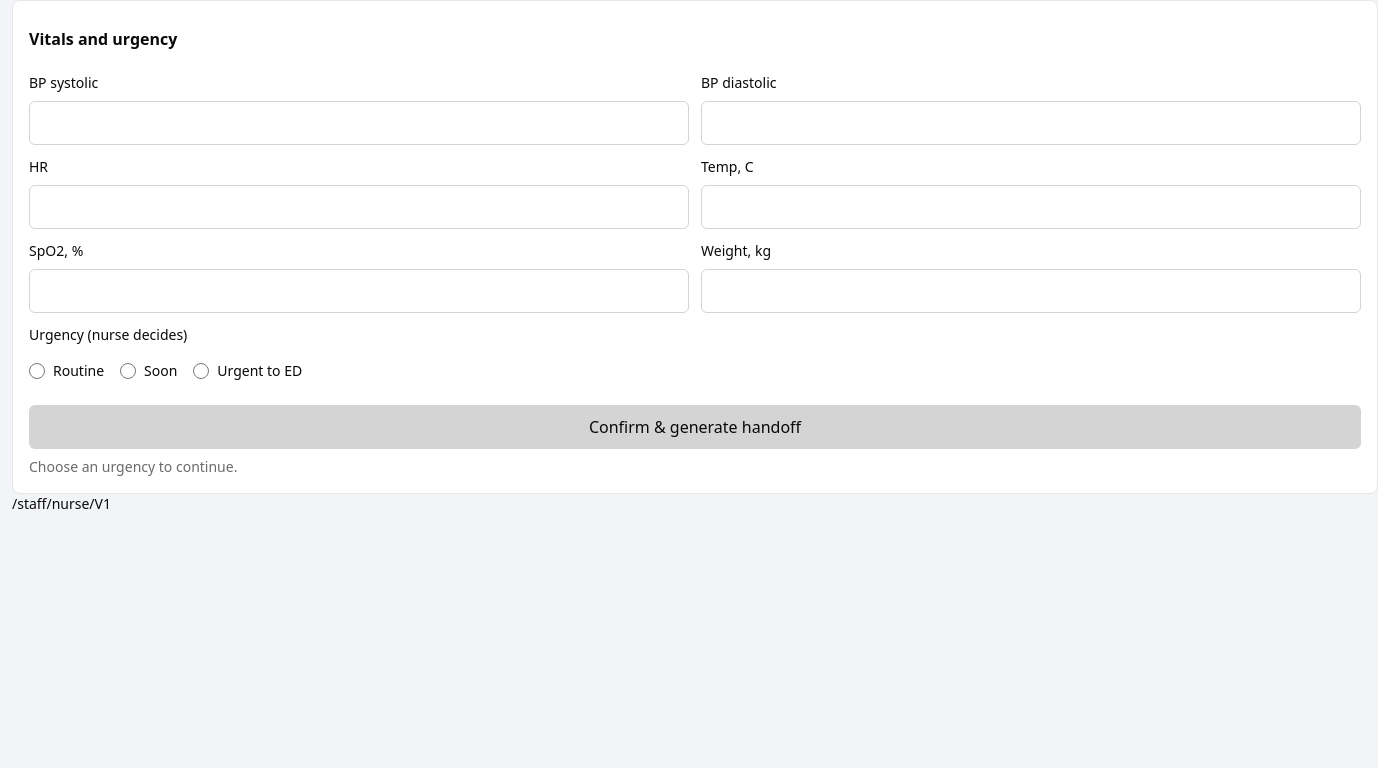
VitalsForm › needs a second tap for urgent, and changing the choice disarms it
Click the radio button with test id "urgency-urgent": (201, 371) top-left (193, 363), bottom-right (209, 379)
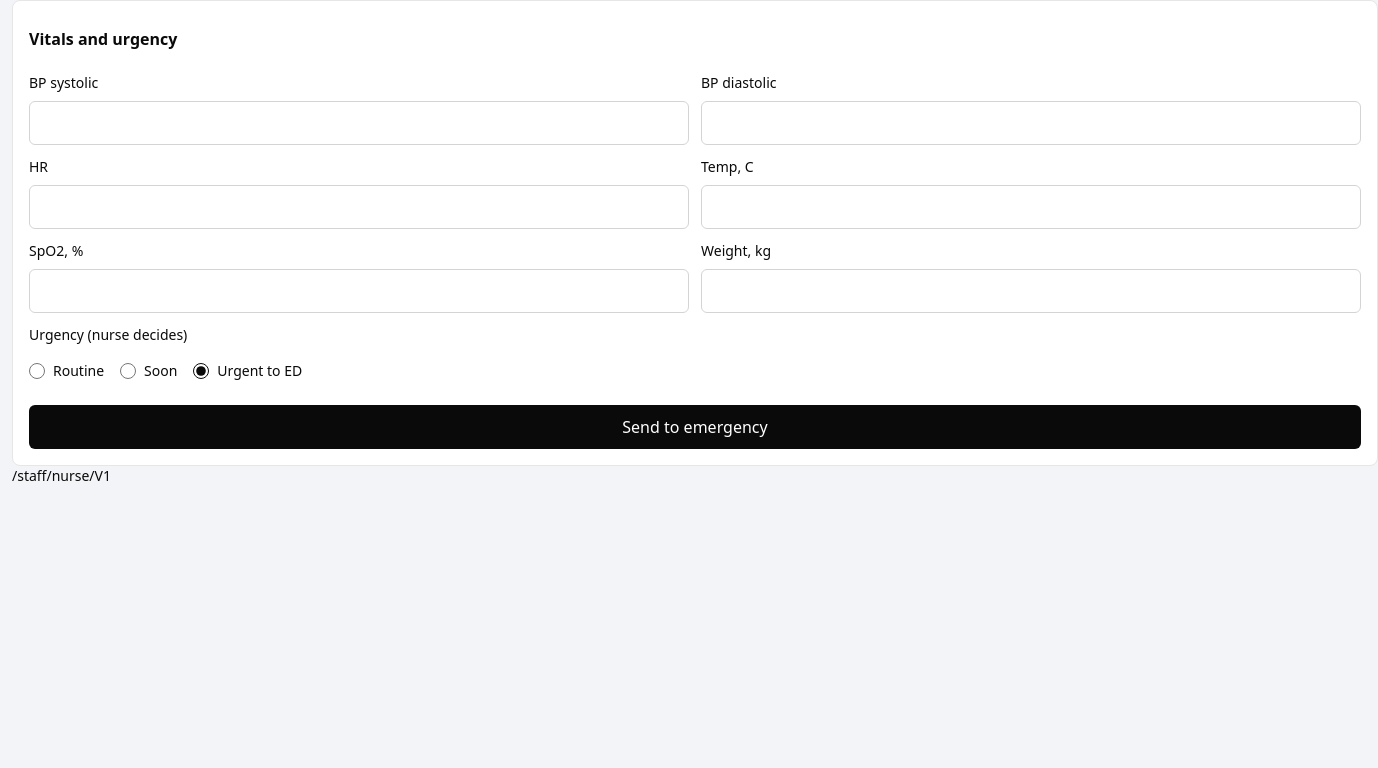
Result: the button with test id "vitals-submit" reads "Send to emergency"
Click the button with test id "vitals-submit": (695, 427) top-left (29, 405), bottom-right (1361, 449)
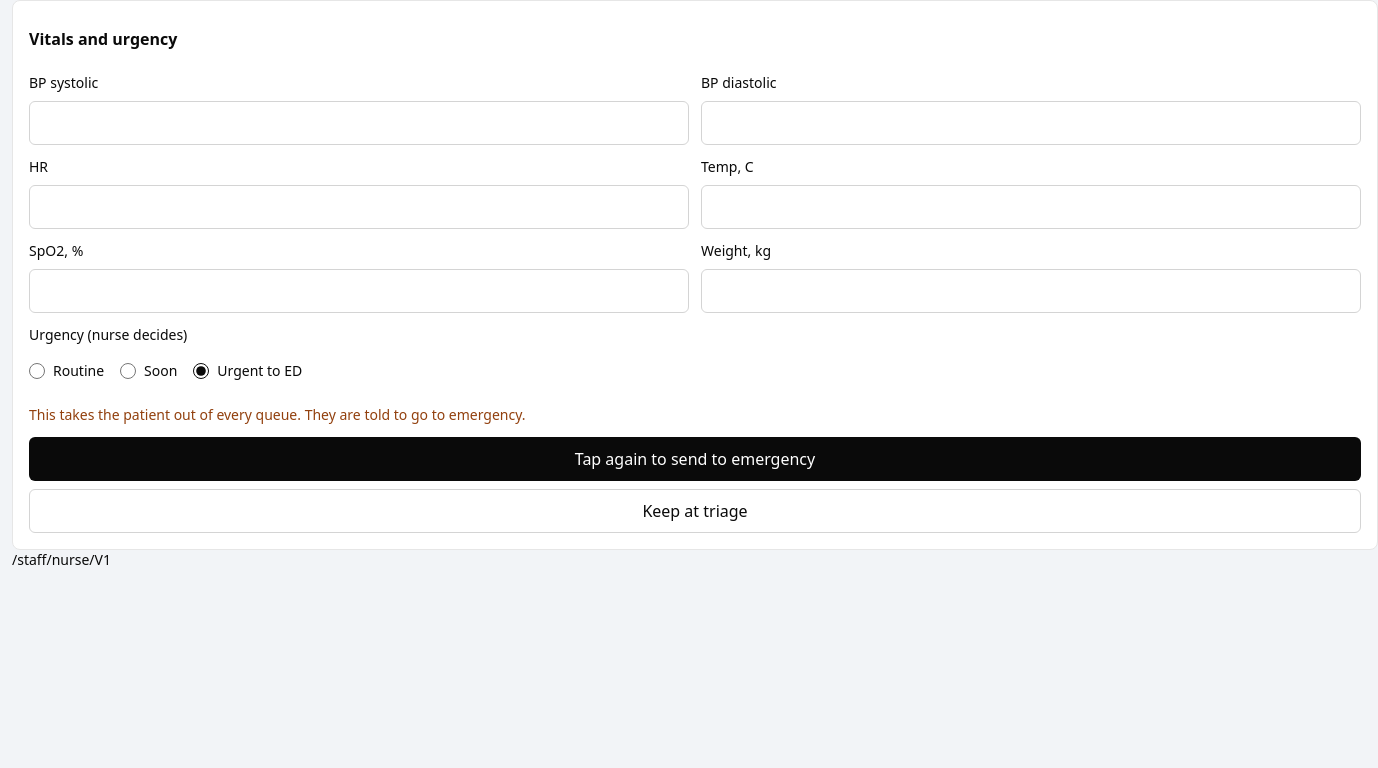
Result: the button with test id "vitals-submit" reads "Tap again to send to emergency" at top-left (29, 437), bottom-right (1361, 481)
Click the radio button labelled "Soon": (128, 371) top-left (120, 363), bottom-right (136, 379)
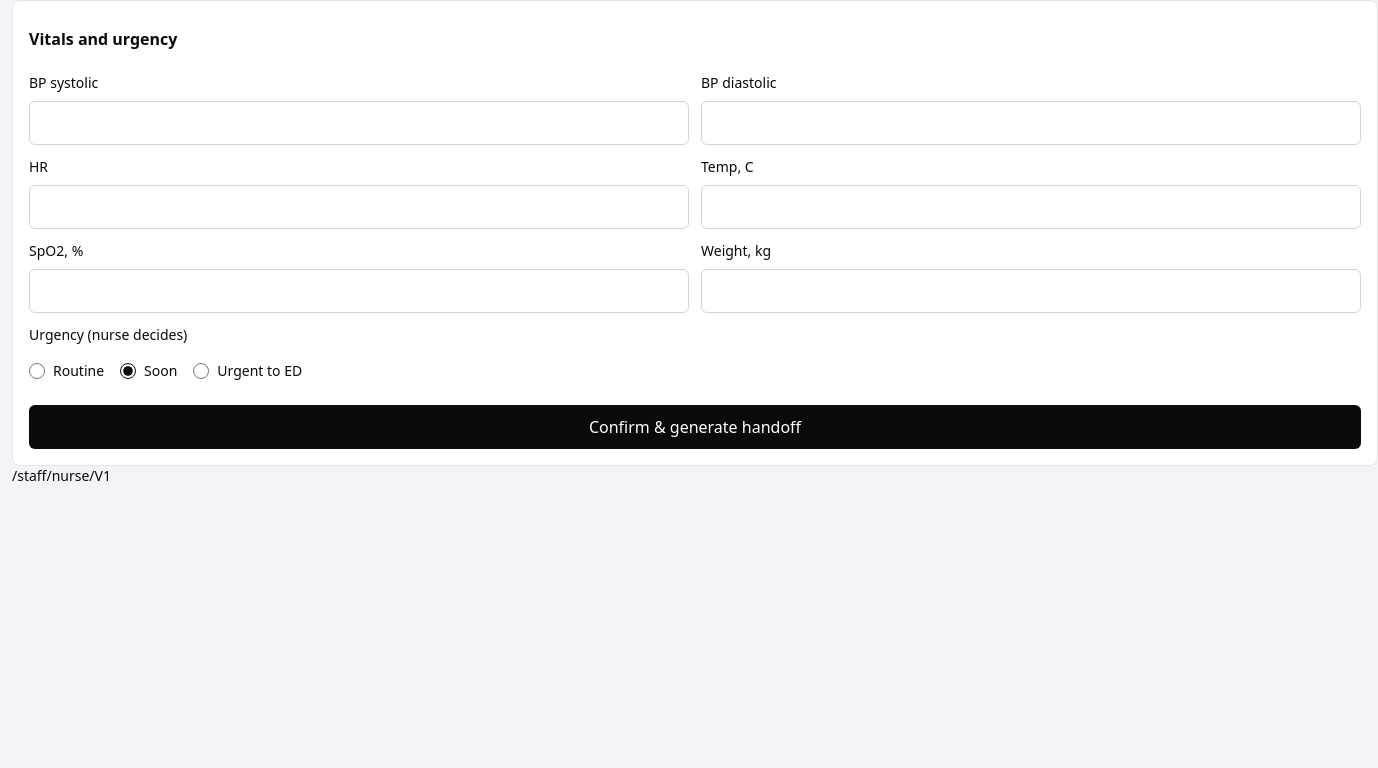
Result: the button with test id "vitals-submit" reads "Confirm & generate handoff" at top-left (29, 405), bottom-right (1361, 449)
Click the radio button with test id "urgency-urgent": (201, 371) top-left (193, 363), bottom-right (209, 379)
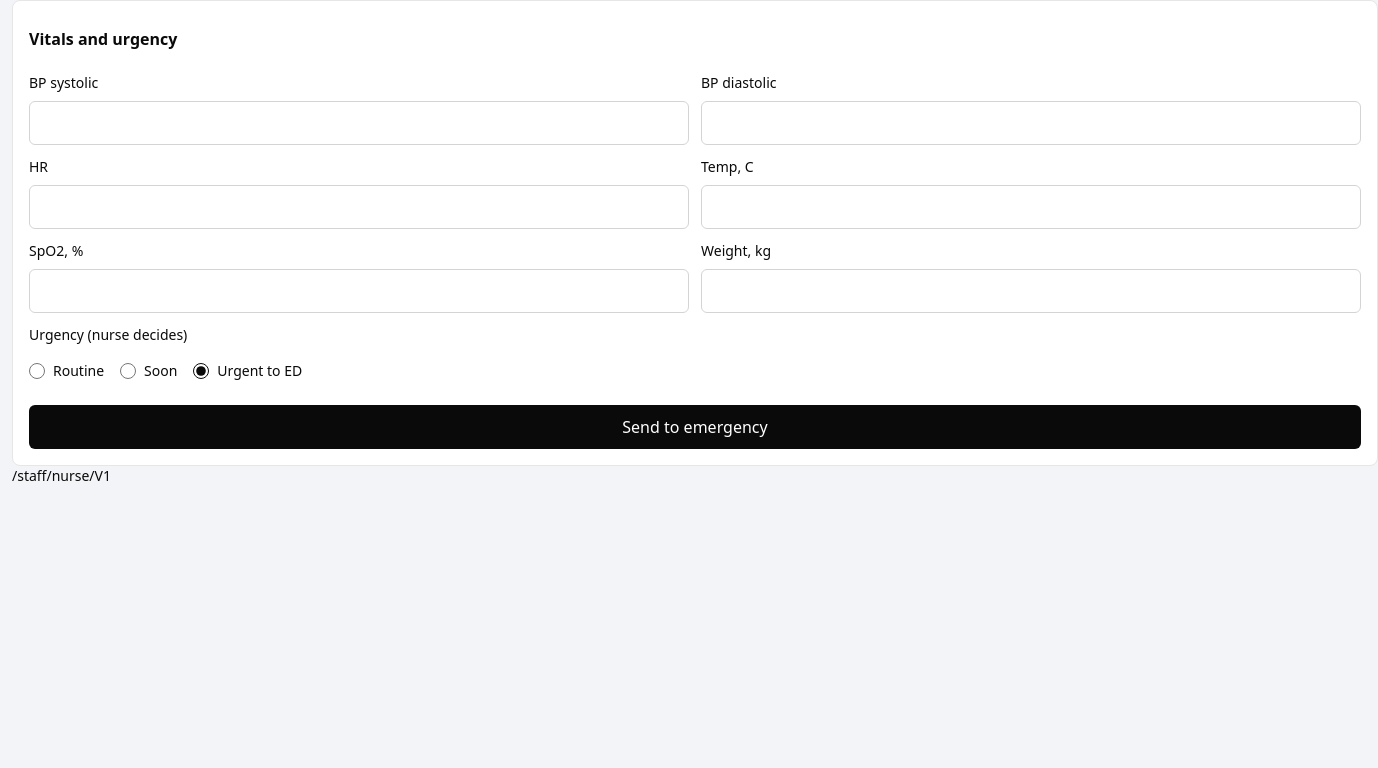
Result: the button with test id "vitals-submit" reads "Send to emergency" at top-left (29, 405), bottom-right (1361, 449)
